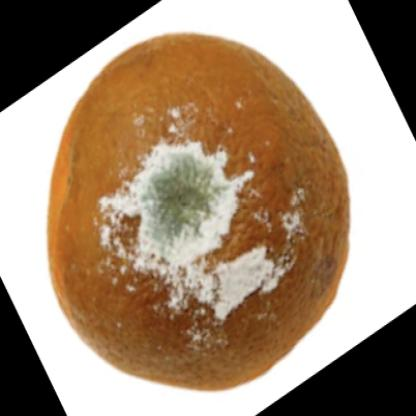rotten: (46, 34, 349, 395)
